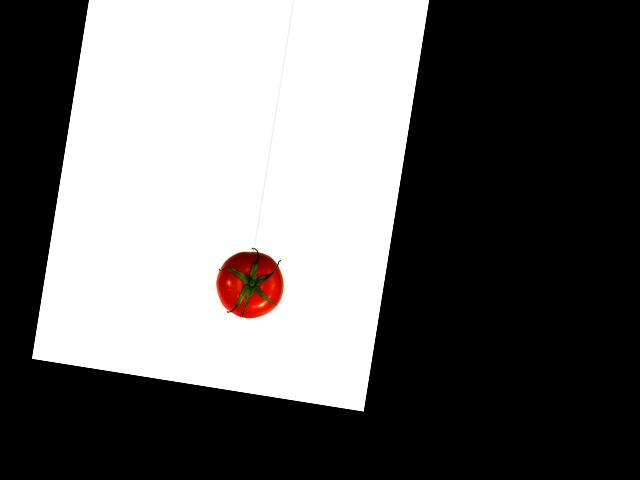tomato: (211, 246, 287, 323)
